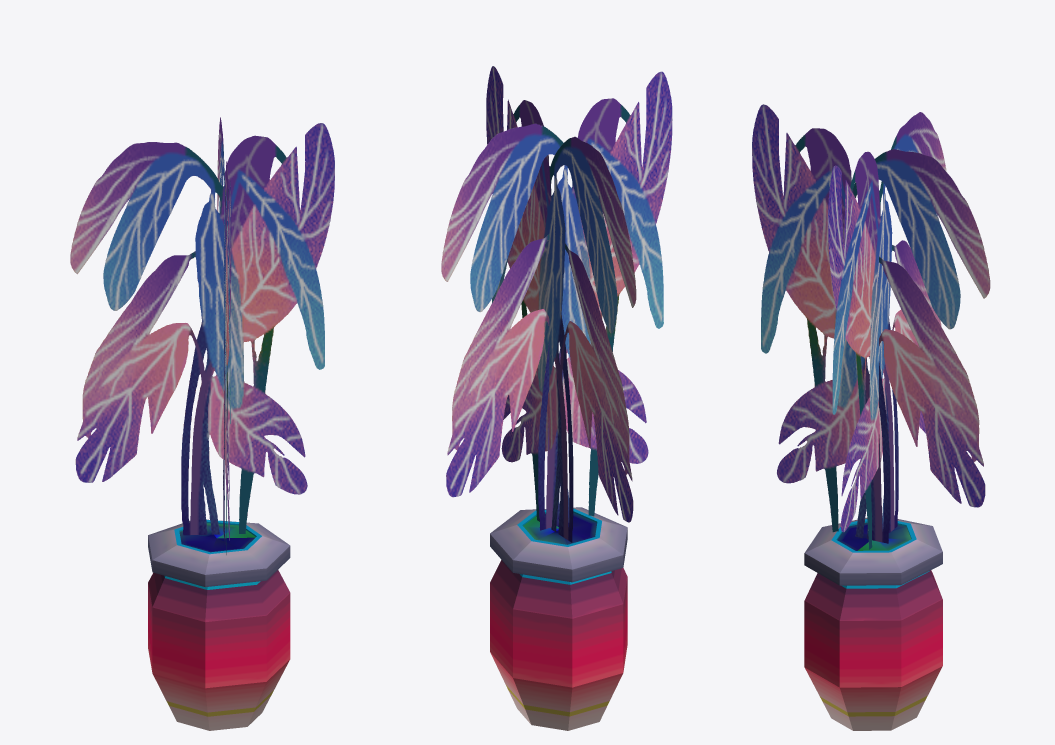
File: Structure_Vapor_Pot_05_Art.fbx
The picture shows the model from 3 angles, left to right: view 1: azimuth 30°, elevation 25°; view 2: azimuth 150°, elevation 25°; view 3: azimuth 270°, elevation 25°; orthographic projection. The views are drawn at different scales.
Visible parts, largest first — view 1: Structure_Vapor_Plants_05, Structure_Vapor_Pot_05_Art, Structure_Vapor_Plants_06; view 2: Structure_Vapor_Plants_05, Structure_Vapor_Plants_06, Structure_Vapor_Pot_05_Art; view 3: Structure_Vapor_Plants_05, Structure_Vapor_Pot_05_Art, Structure_Vapor_Plants_06.
Boxes of the visible parts, x1,y1,x2,y2 form: Structure_Vapor_Plants_05: (70, 117, 334, 554); Structure_Vapor_Pot_05_Art: (148, 519, 290, 730); Structure_Vapor_Plants_06: (70, 117, 334, 535); Structure_Vapor_Plants_05: (441, 66, 672, 542); Structure_Vapor_Plants_06: (441, 73, 666, 542); Structure_Vapor_Pot_05_Art: (490, 507, 627, 730); Structure_Vapor_Plants_05: (752, 104, 990, 549); Structure_Vapor_Pot_05_Art: (804, 516, 942, 730); Structure_Vapor_Plants_06: (752, 105, 989, 549).
Bounding box in the file's own units: 136 × 298 × 136.
